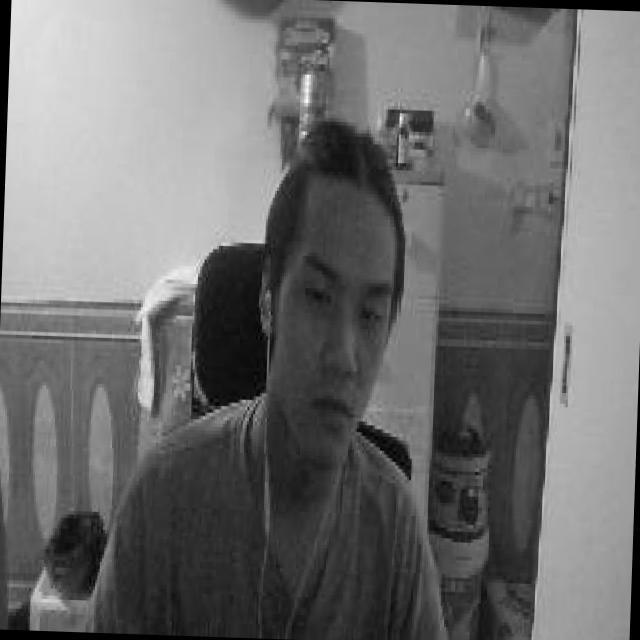Focused: (279, 172, 393, 462)
